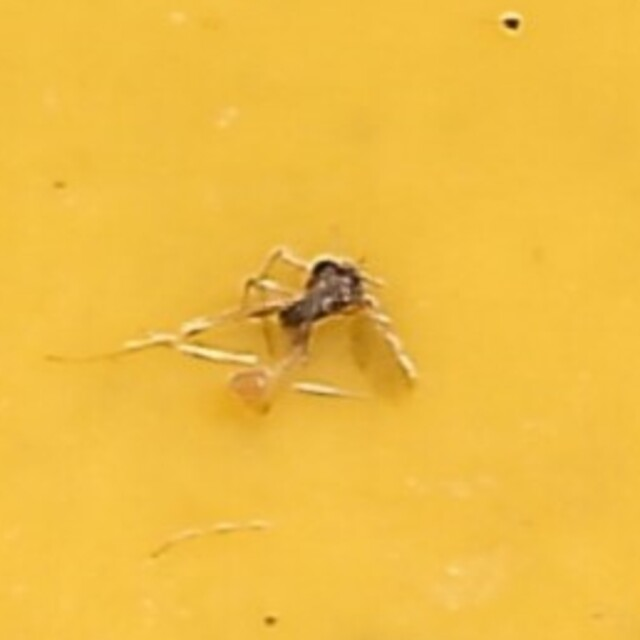Nematocera: (248, 235, 392, 405)
